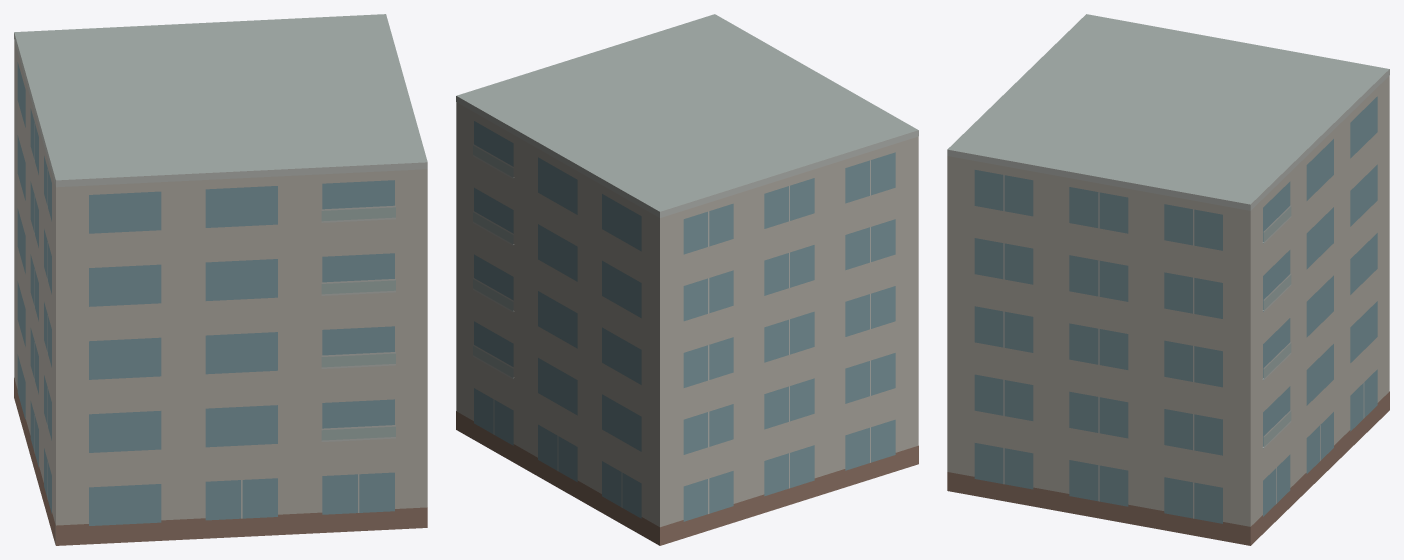
Rendered from survey-upis-32670852.glb.
3 renders of one model, left to right at view 1: azimuth 30°, elevation 25°; view 2: azimuth 150°, elevation 25°; view 3: azimuth 270°, elevation 25°, orthographic. The views are drawn at different scales.
Visible parts, largest first — view 1: survey-upis-32670852.tmp; view 2: survey-upis-32670852.tmp; view 3: survey-upis-32670852.tmp.
Part boxes in pixels (x1=…): survey-upis-32670852.tmp: x1=14, y1=14, x2=427, y2=545; survey-upis-32670852.tmp: x1=456, y1=14, x2=918, y2=545; survey-upis-32670852.tmp: x1=947, y1=14, x2=1389, y2=545.
Size of the model in its own units: 15.57 by 13 by 15.28.
